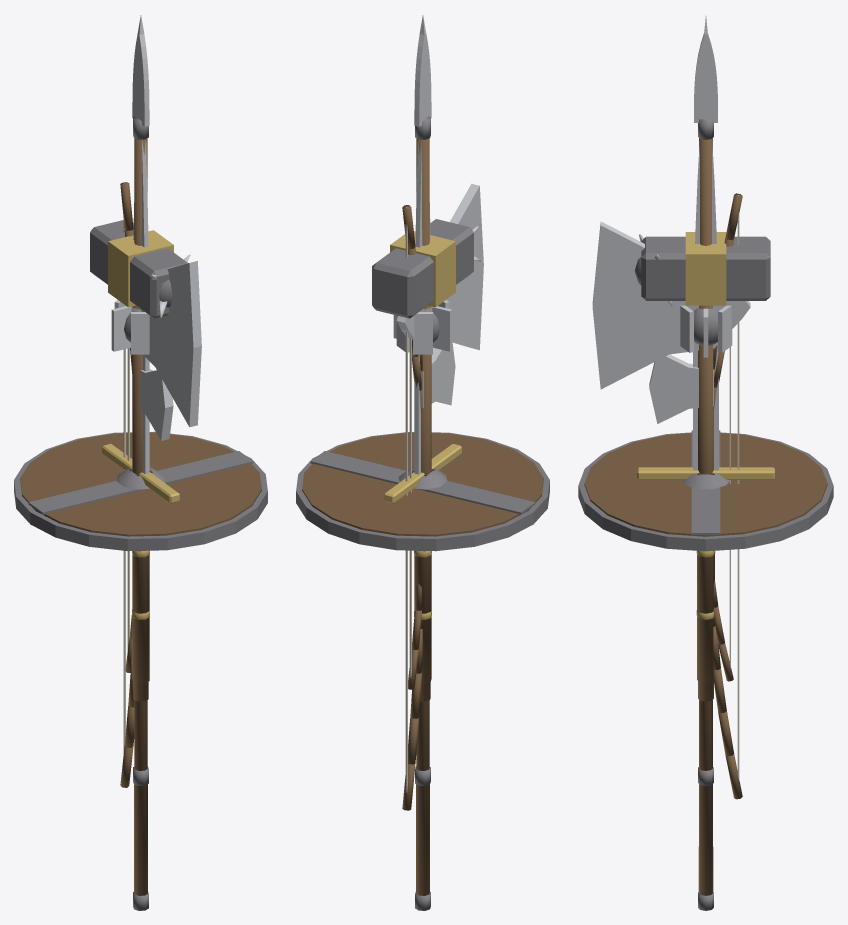
File: vapen.glb
3 views of the same model, side by side, from view 1: azimuth 30°, elevation 25°; view 2: azimuth 150°, elevation 25°; view 3: azimuth 270°, elevation 25° (orthographic).
Parts seen in each view (by area): view 1: Shield, Maul, Greataxe, Spear, Staff, Longbow, Greatsword, Mace, Handaxe, Shortbow; view 2: Shield, Maul, Greataxe, Longbow, Spear, Staff, Mace, Greatsword, Shortbow, Handaxe; view 3: Shield, Maul, Greataxe, Spear, Longbow, Staff, Handaxe, Greatsword, Mace, Shortbow.
Boxes of the visible parts, bbox=[...] form: Shield: bbox=[14, 431, 267, 551]; Maul: bbox=[90, 220, 187, 683]; Greataxe: bbox=[133, 261, 201, 701]; Spear: bbox=[132, 15, 149, 785]; Staff: bbox=[129, 469, 152, 910]; Longbow: bbox=[120, 182, 134, 787]; Greatsword: bbox=[102, 140, 179, 619]; Mace: bbox=[111, 300, 149, 354]; Handaxe: bbox=[140, 369, 173, 440]; Shortbow: bbox=[125, 347, 132, 672]; Shield: bbox=[296, 432, 549, 551]; Maul: bbox=[372, 219, 473, 683]; Greataxe: bbox=[396, 183, 483, 701]; Longbow: bbox=[402, 205, 422, 810]; Spear: bbox=[414, 15, 431, 785]; Staff: bbox=[412, 469, 434, 910]; Mace: bbox=[393, 300, 452, 354]; Greatsword: bbox=[384, 140, 461, 619]; Shortbow: bbox=[408, 337, 421, 689]; Handaxe: bbox=[421, 342, 455, 407]; Shield: bbox=[578, 430, 833, 551]; Maul: bbox=[641, 232, 770, 683]; Greataxe: bbox=[592, 221, 750, 701]; Spear: bbox=[694, 16, 717, 785]; Longbow: bbox=[713, 193, 742, 799]; Staff: bbox=[697, 473, 714, 910]; Handaxe: bbox=[649, 354, 713, 423]; Greatsword: bbox=[637, 142, 774, 619]; Mace: bbox=[680, 305, 732, 357]; Shortbow: bbox=[713, 347, 733, 681].
Bounding box in the file's own units: 0.63 × 2.43 × 0.63.
